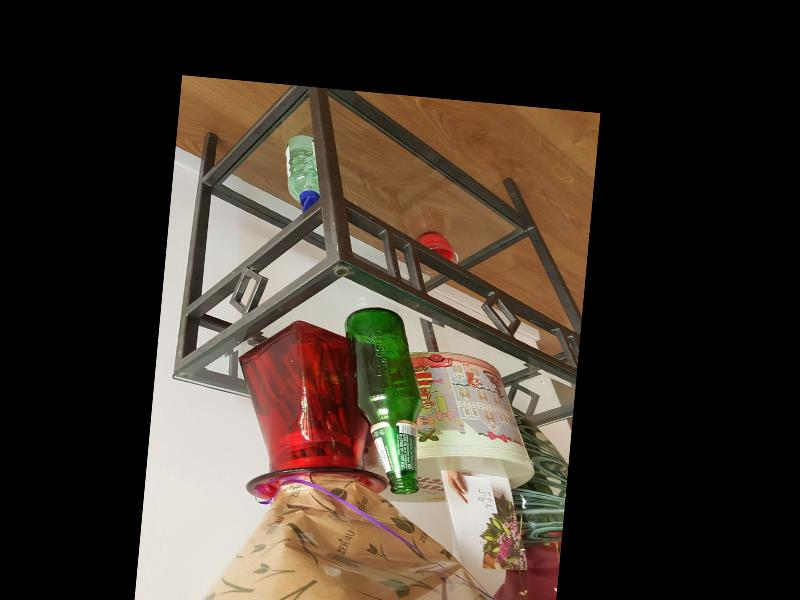Beer: (331, 304, 432, 496)
